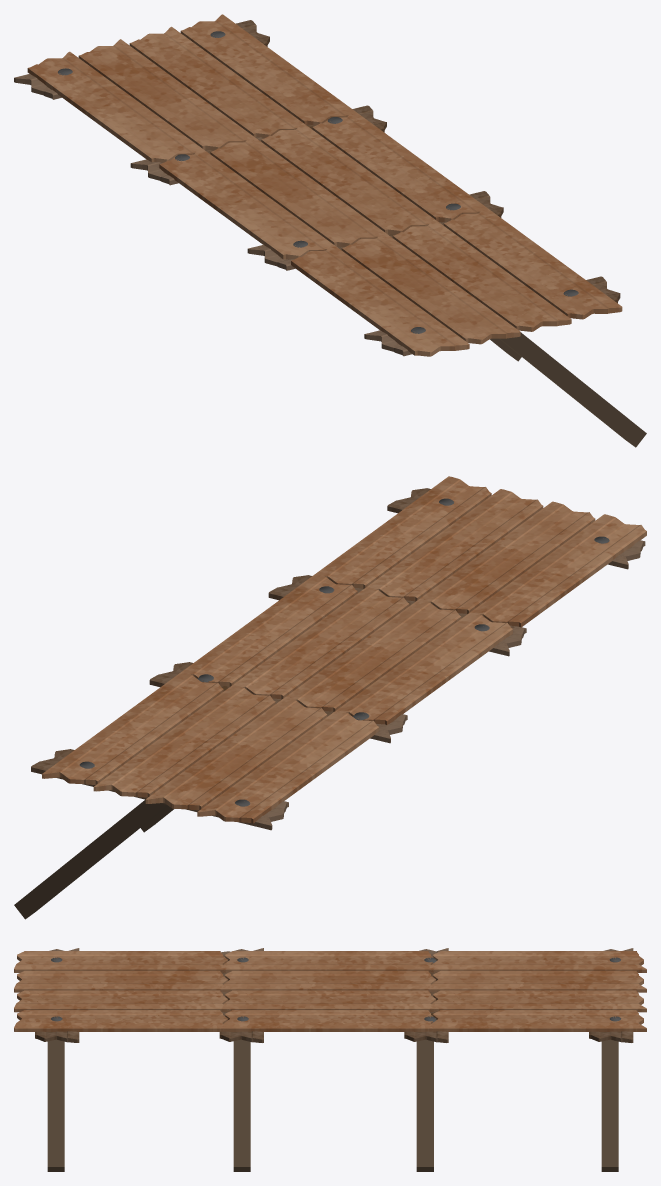
File: PlataformaGrande.fbx
3 renders of one model, top to bottom at view 1: azimuth 30°, elevation 25°; view 2: azimuth 150°, elevation 25°; view 3: azimuth 270°, elevation 25°, orthographic. The views are drawn at different scales.
Parts seen in each view (by area): view 1: TablasGrandes; view 2: TablasGrandes; view 3: TablasGrandes.
Boxes of the visible parts, x1,y1,x2,y2 form: TablasGrandes: [14, 14, 646, 447]; TablasGrandes: [14, 476, 646, 919]; TablasGrandes: [14, 948, 646, 1171].
Bounding box in the file's own units: 10.83 × 6.52 × 28.58.
Materials: 4 (2 with a texture image).
